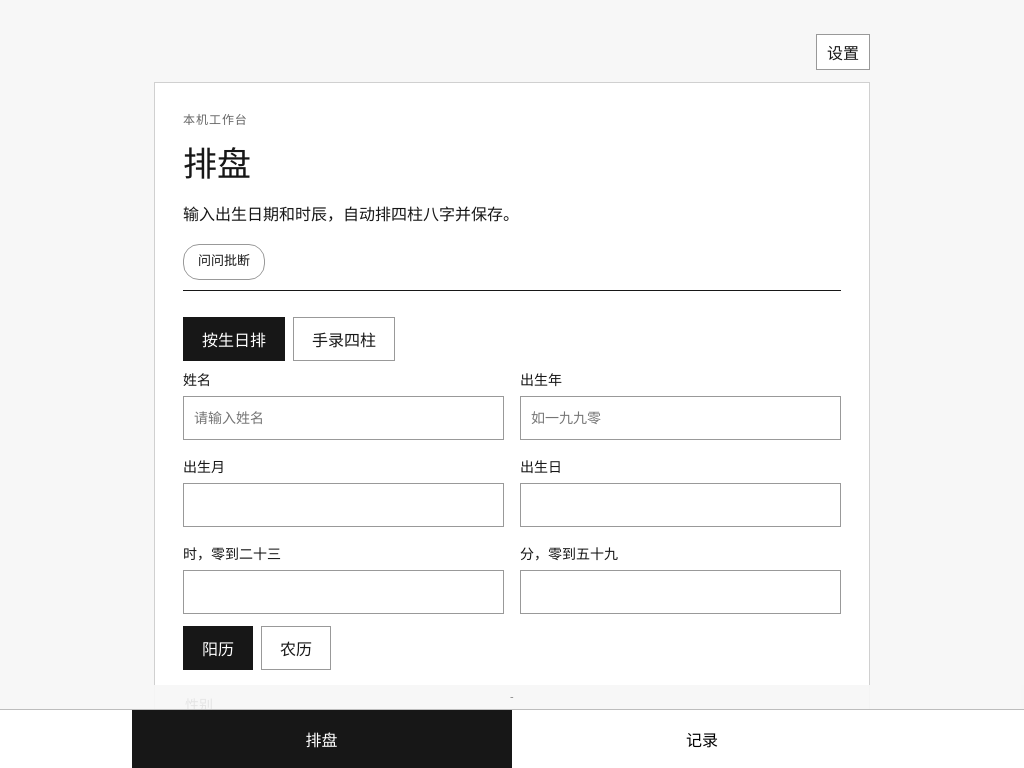
Test: 未配置态的每一处都要给出可点的出路 › 详情页：提示「批断尚未可用」并带「去设置」入口，点击真的打开设置页
Step 1. Click the button "记录" → coordinates (702, 739), box x1=512 y1=710 x2=892 y2=767
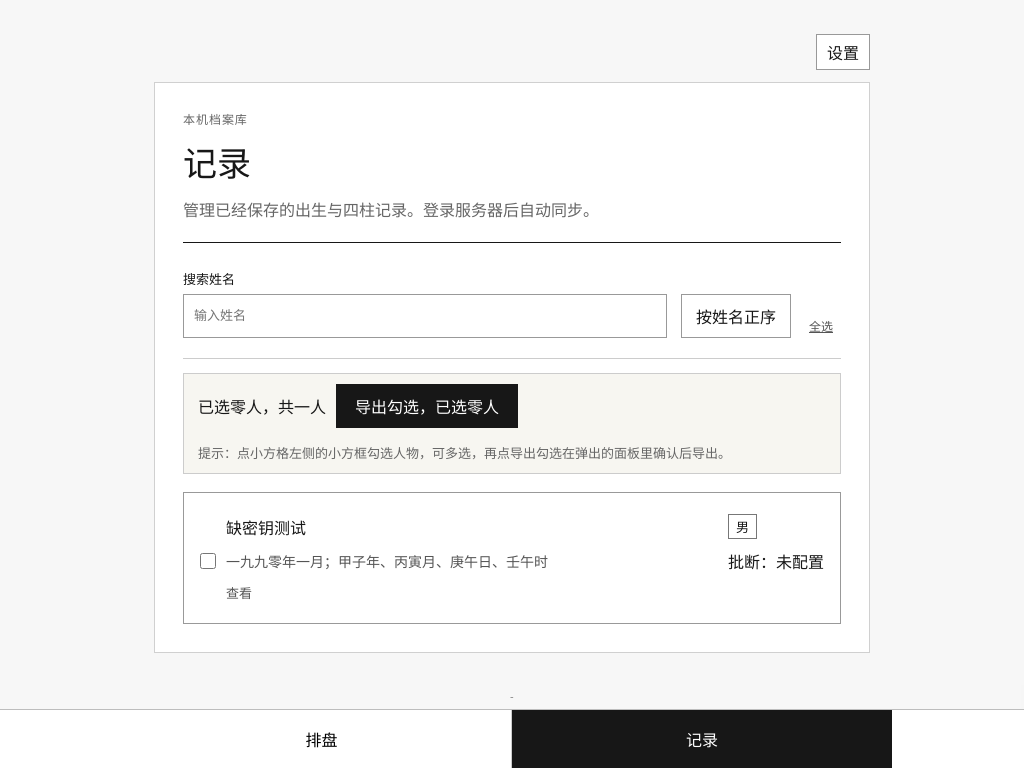
Step 2. Click the button with aria-label "查看缺密钥测试" → coordinates (525, 558), box x1=226 y1=514 x2=824 y2=602
(page scrolled)
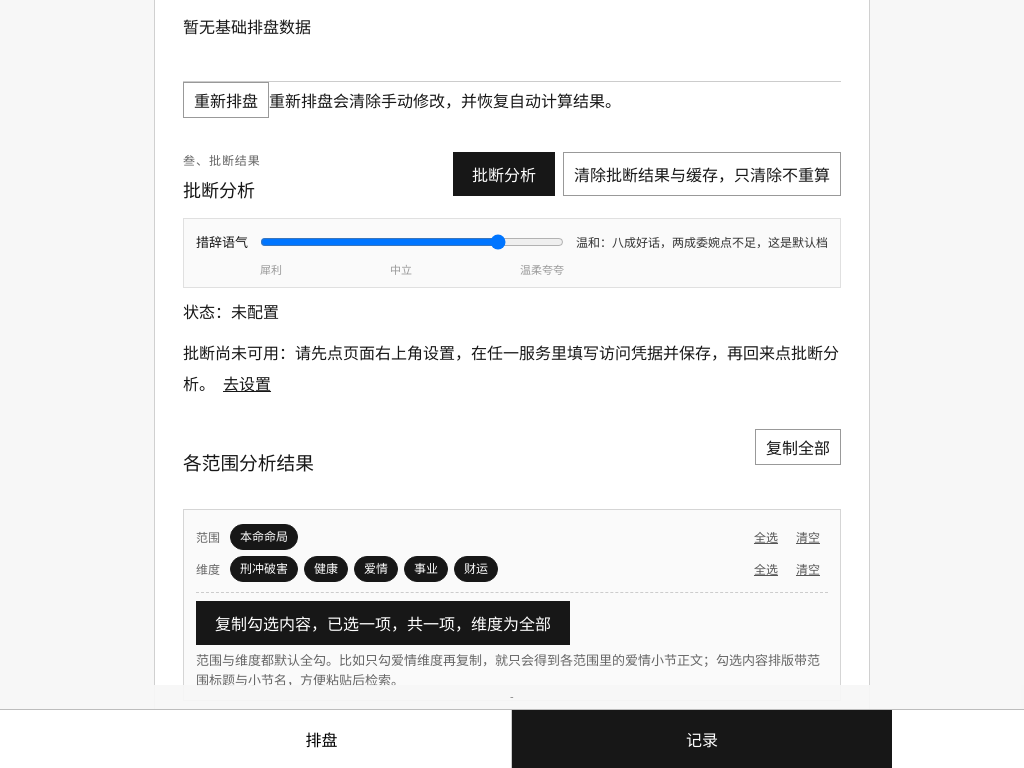
Expected: the text "批断通道，三条可同时配置" is not shown
Expected: the text "批断尚未可用：请先点页面右上角设置，在任一服务里填写访问凭据并保存，再回来点批断分析。 去设置" is shown, x1=183 y1=341 x2=841 y2=413
Step 3. Click the button "去设置" → coordinates (247, 385), box x1=223 y1=367 x2=271 y2=403
(page scrolled)
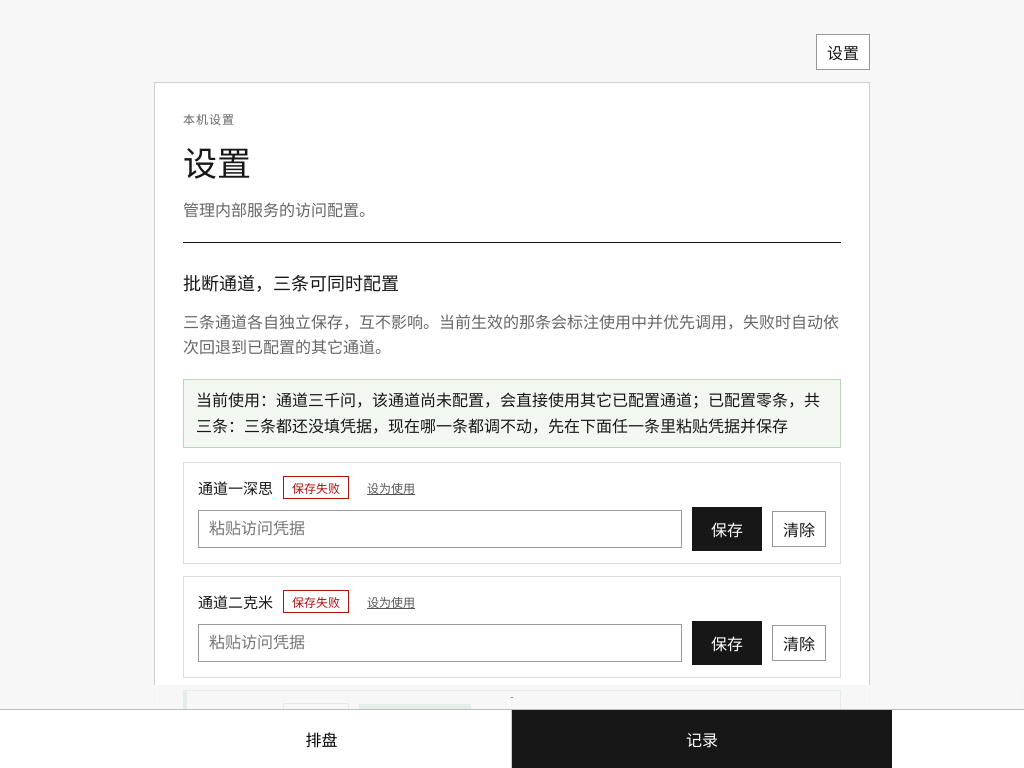
Expected: the heading "批断通道，三条可同时配置" is shown, x1=183 y1=274 x2=399 y2=294
